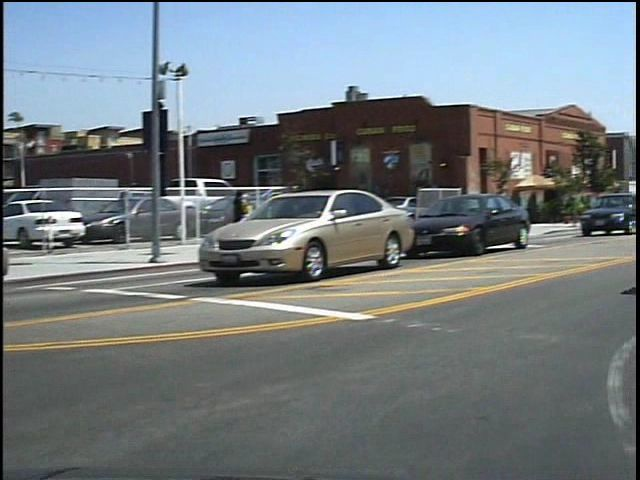person: (236, 180, 261, 244)
